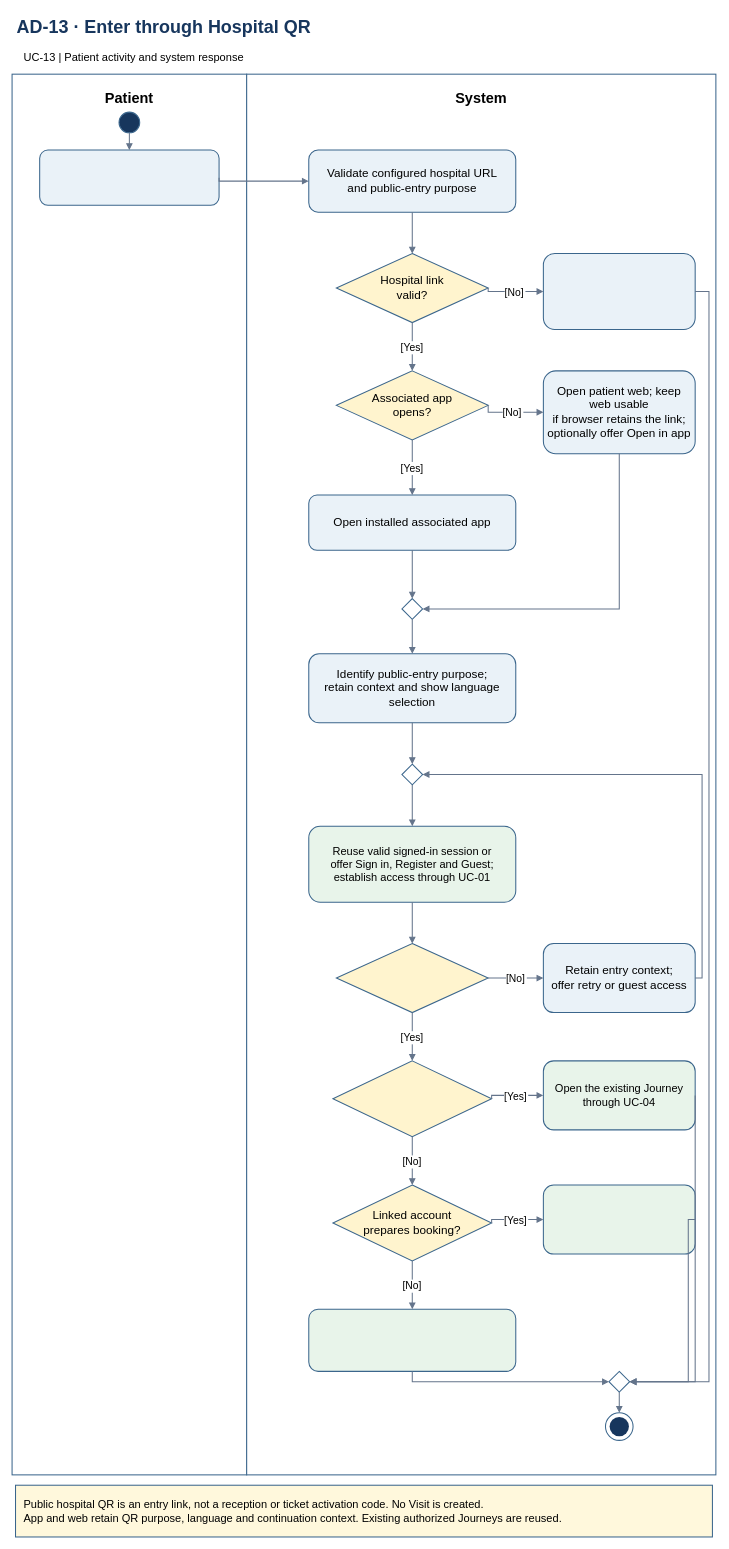
Image size: 729x1549. Some labels were removed from this diagram. The shapes that lost their labels are listed below. From the top down, each one's centre as x and y in pixels, then its label:
the point at 129,177: Scan public hospital guidance QR
the point at 619,291: Show malformed / unsupported link error and staff-contact option
the point at 412,978: Access established?
the point at 412,1098: Accessible unfinished Journey?
the point at 619,1219: Continue to appointment preparation through UC-02
the point at 412,1340: Continue to standard walk-in preparation through UC-03
